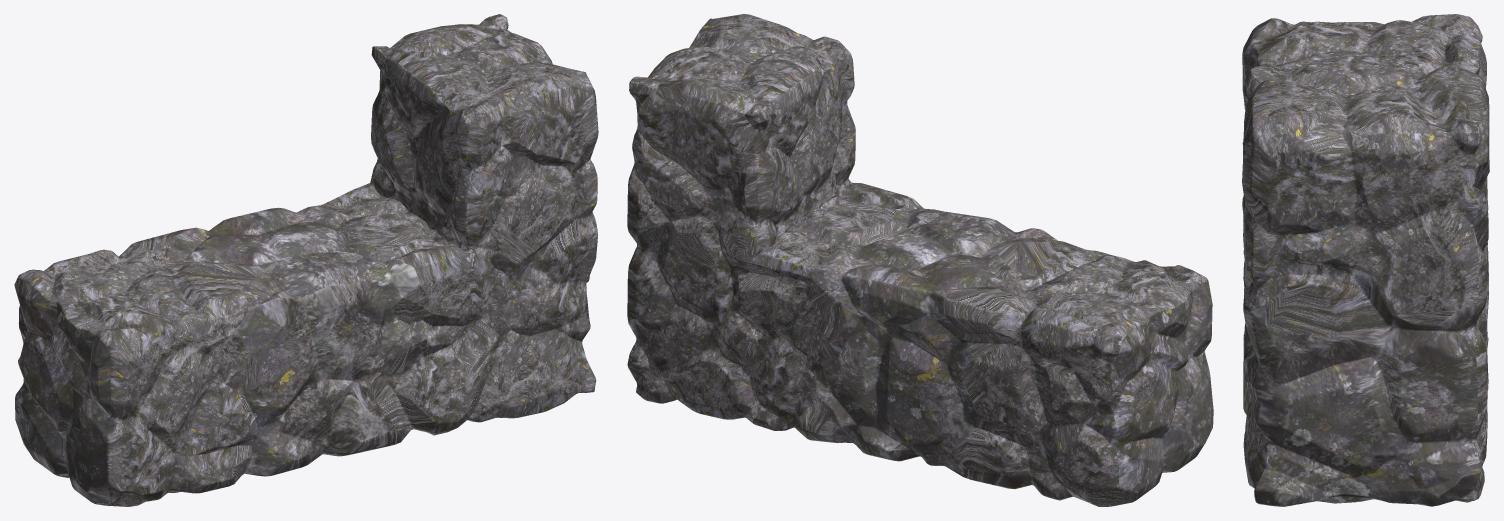
The model's file is stoneWallwTexture 1.fbx.
3 renders of one model, left to right at view 1: azimuth 30°, elevation 25°; view 2: azimuth 150°, elevation 25°; view 3: azimuth 270°, elevation 25°, orthographic. The views are drawn at different scales.
Parts seen in each view (by area): view 1: Cube; view 2: Cube; view 3: Cube.
Part boxes in pixels (bbox=[...]): Cube: bbox=[14, 14, 598, 506]; Cube: bbox=[627, 14, 1213, 506]; Cube: bbox=[1242, 14, 1489, 506].
Size of the model in its own units: 653 by 407 by 233.
Materials: 1 (1 with a texture image).
